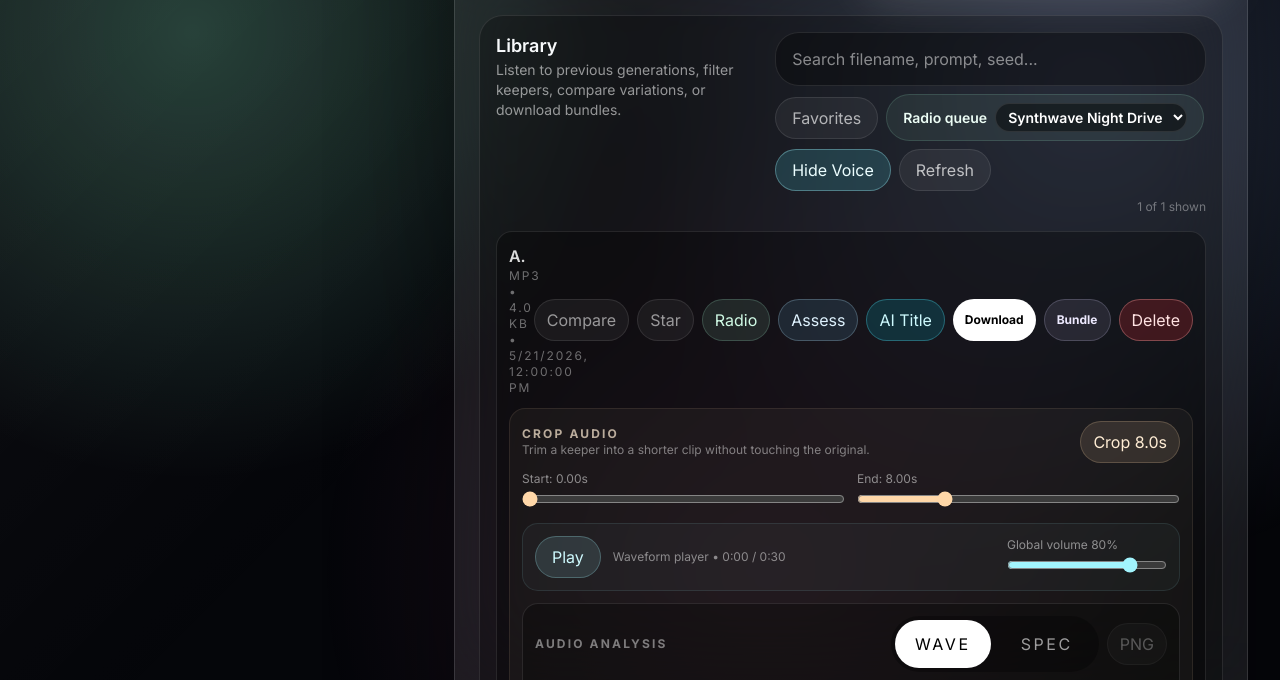
Test: main page radio lineup action › sends a library song to the audio assessor and displays returned attributes
This screenshot has width=1280, height=680.
(page scrolled)
Step 1. Click the button with aria-label "Assess Assess Me" → (818, 320), box [778, 299, 858, 341]
(page scrolled)
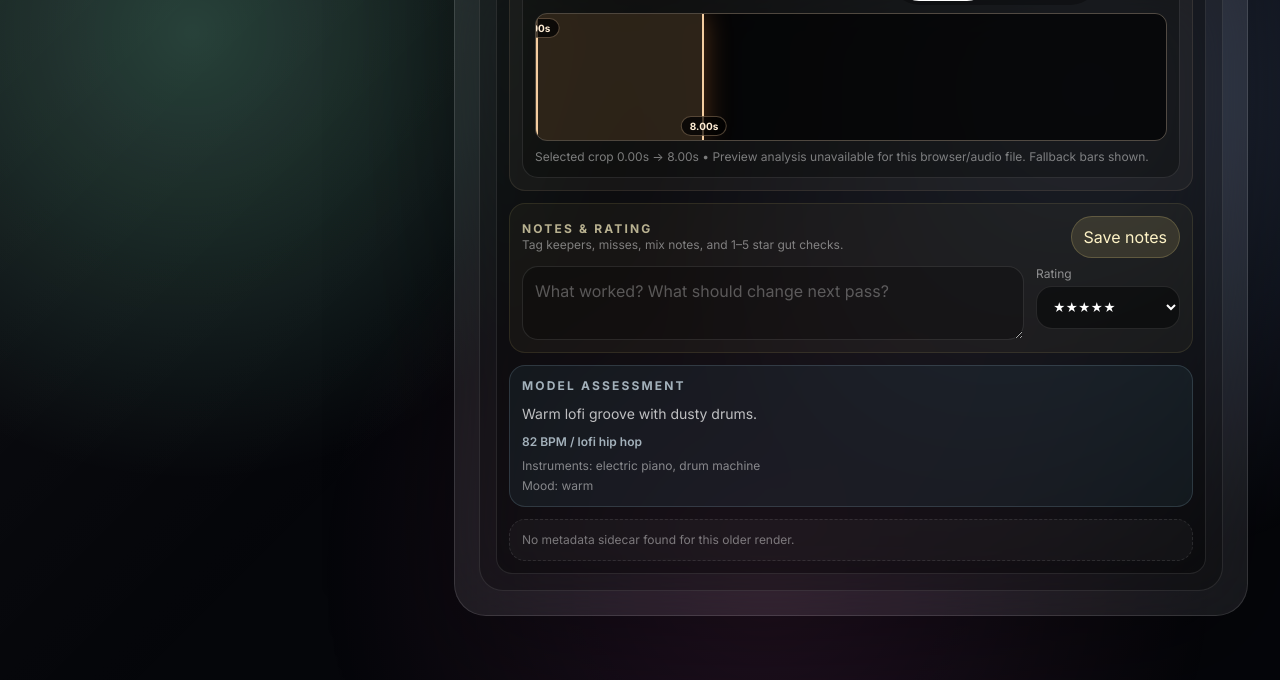
Result: the text "Warm lofi groove with dusty drums." is shown at [522, 405, 757, 422]
Result: the text "Instruments: electric piano, drum machine" is shown at [522, 458, 760, 473]
